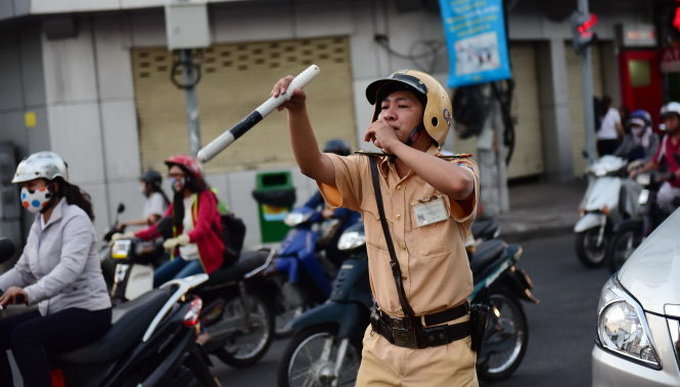police: (205, 63, 500, 387)
